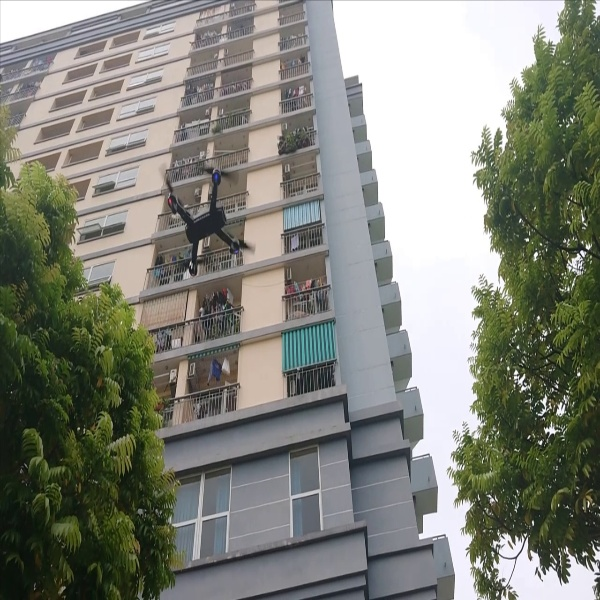drone: (152, 160, 253, 276)
